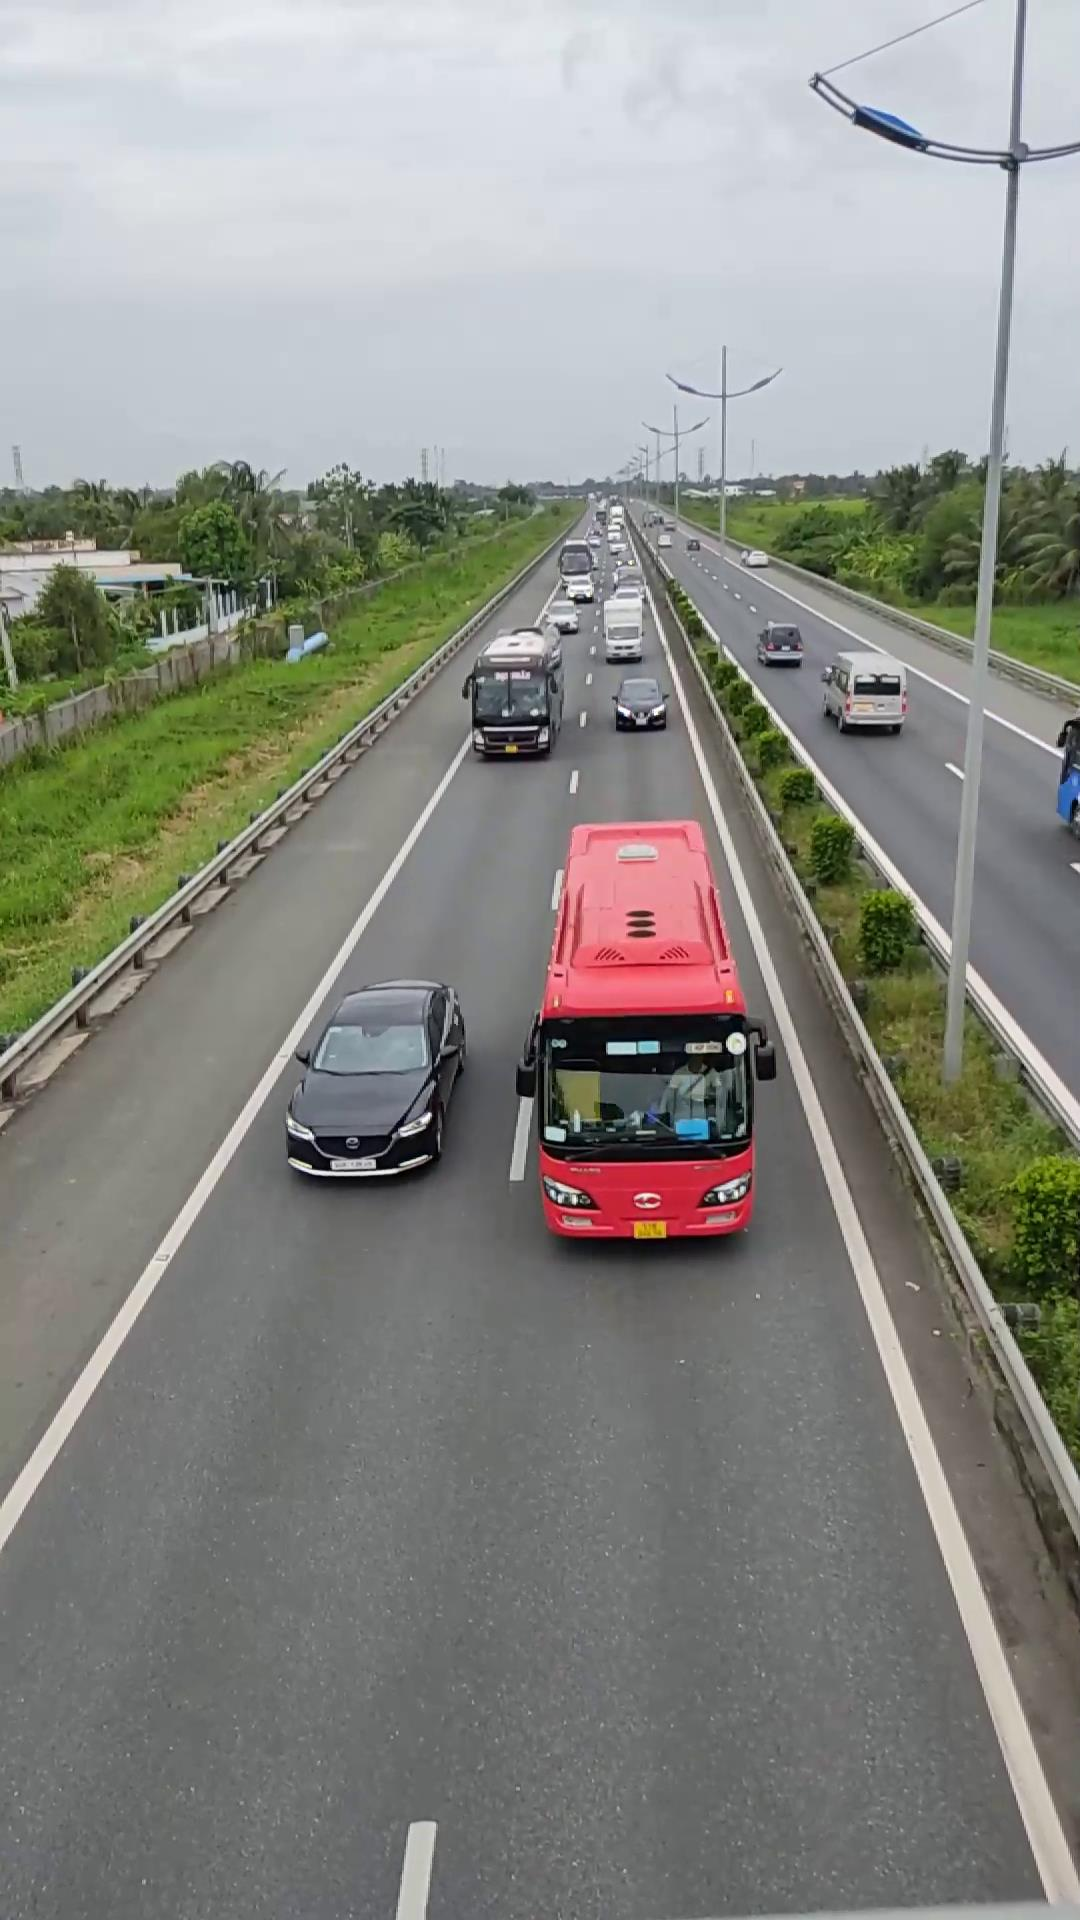bus: (513, 816, 767, 1244), (467, 628, 560, 758)
car: (281, 978, 467, 1179), (820, 647, 909, 732)
